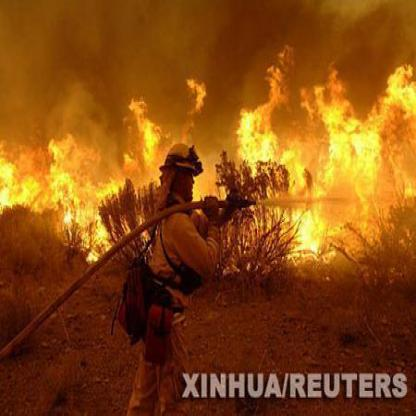fire: (233, 64, 411, 236), (1, 125, 161, 259), (127, 82, 219, 143)
